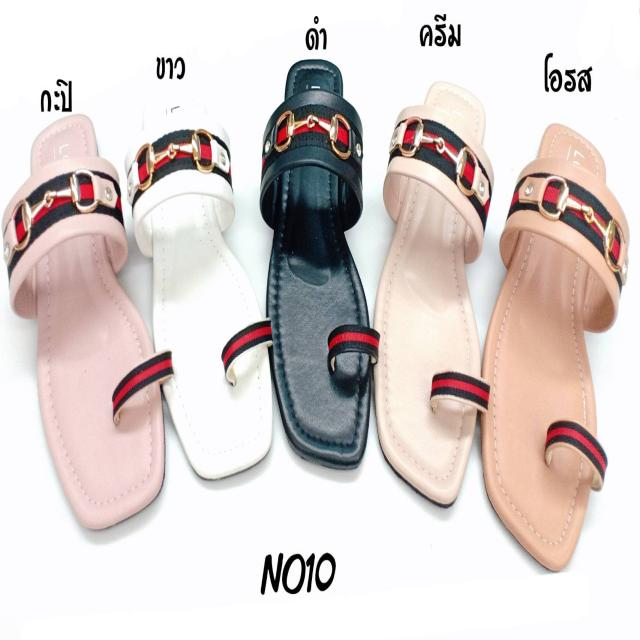black: (268, 54, 375, 466)
cream: (376, 79, 481, 502)
kapi: (16, 119, 166, 534)
orot: (476, 119, 619, 570)
white: (141, 90, 275, 476)
